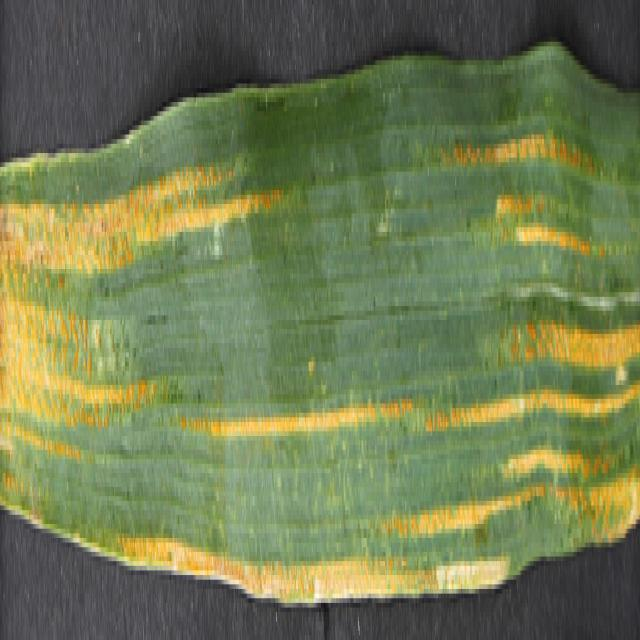leaf rust: (1, 111, 640, 594)
